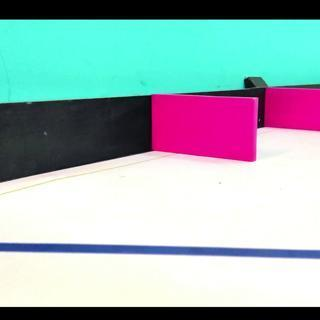xparking: (160, 103, 256, 160), (271, 96, 316, 131)
